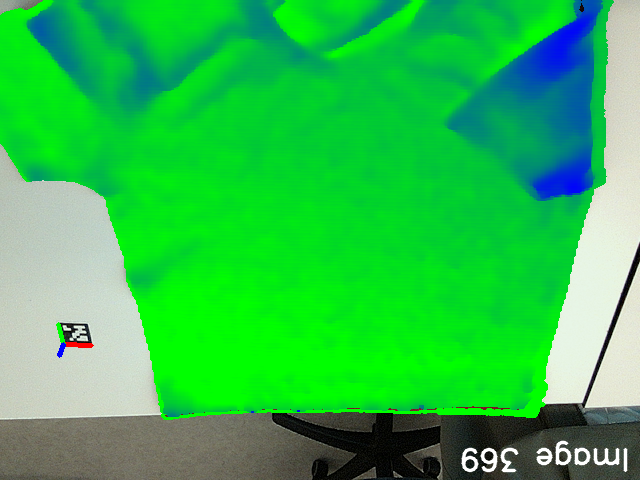V: (434, 98, 481, 138)
